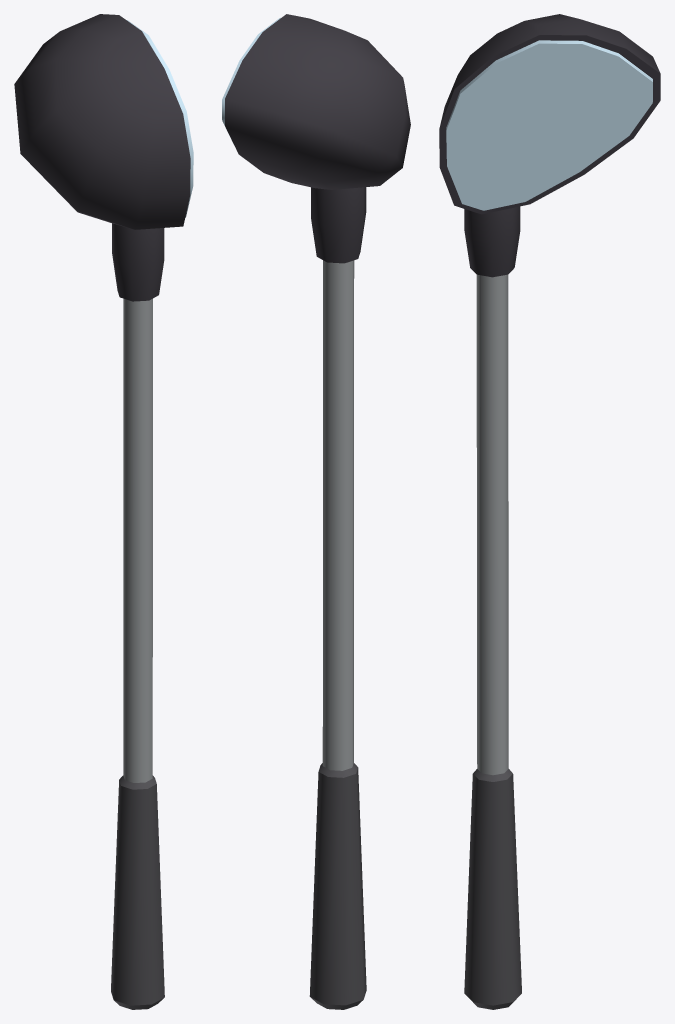
The model's file is MeleeWeaponAgent_GolfClub.fbx.
3 views of the same model, side by side, from view 1: azimuth 30°, elevation 25°; view 2: azimuth 150°, elevation 25°; view 3: azimuth 270°, elevation 25° (orthographic). The views are drawn at different scales.
Visible parts, largest first — view 1: GolfClub; view 2: GolfClub; view 3: GolfClub.
Part boxes in pixels (x1,y1,x2,y2): GolfClub: (14,14,193,1009); GolfClub: (222,14,410,1009); GolfClub: (439,14,660,1009).
Bounding box in the file's own units: 0.1688 × 1.28 × 0.2623.
